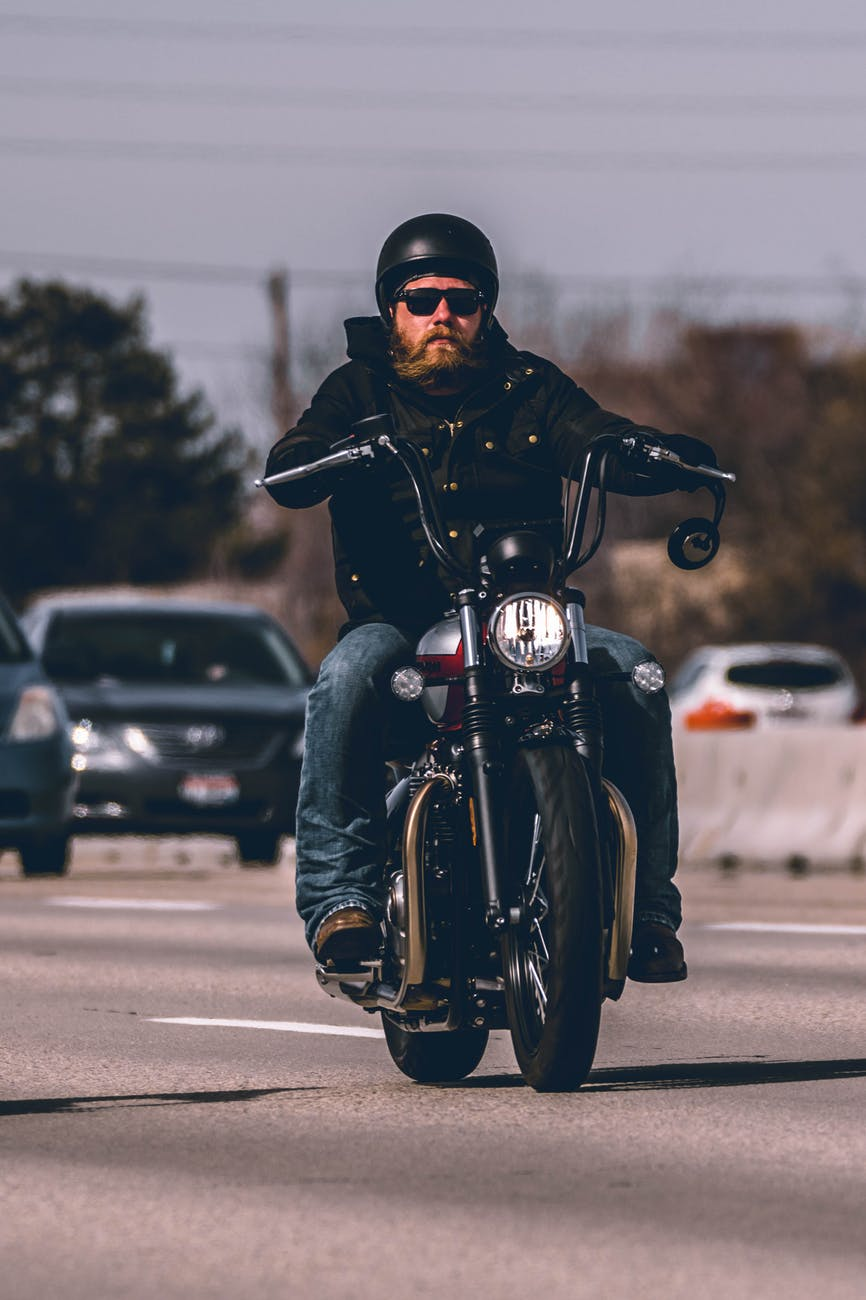helmet: (370, 209, 508, 301)
